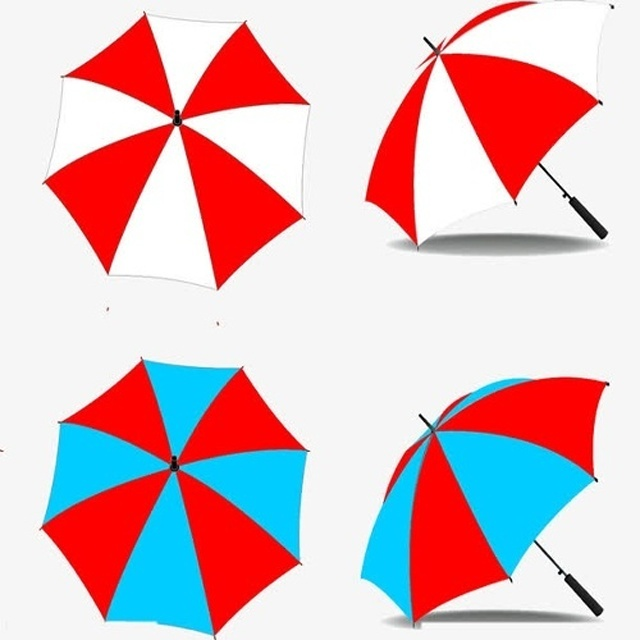umbrella: (42, 8, 316, 293), (39, 356, 312, 640), (351, 373, 618, 628), (361, 1, 619, 253)
